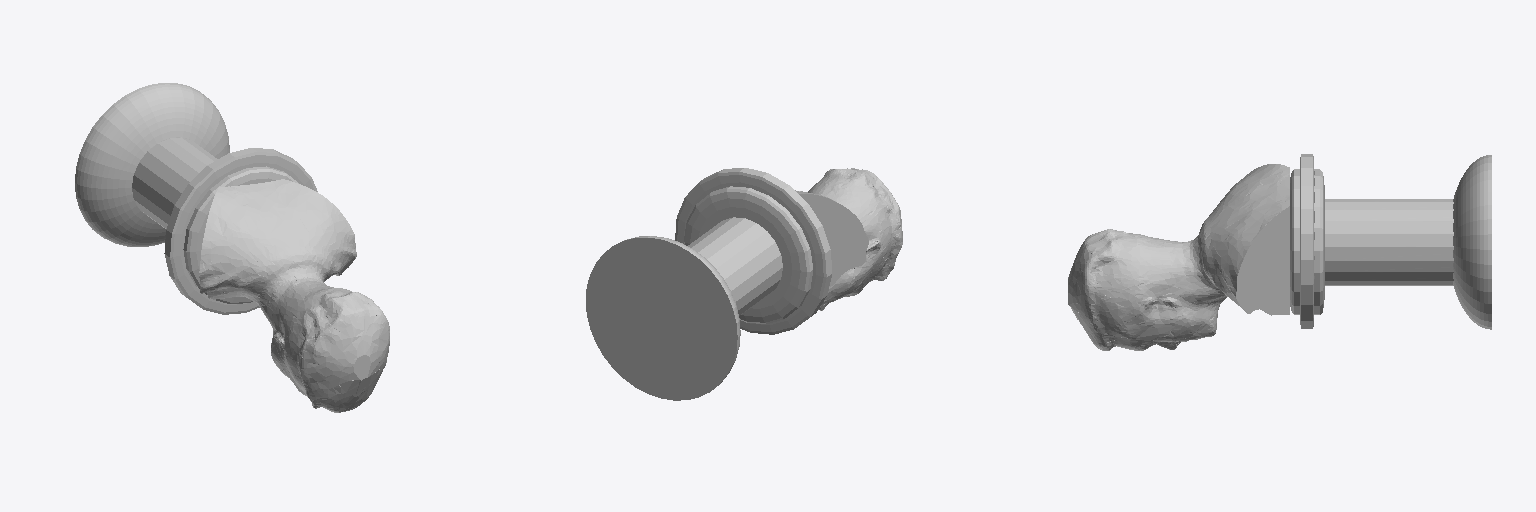
File: carlosbustcentered.obj
3 renders of one model, left to right at view 1: azimuth 30°, elevation 25°; view 2: azimuth 150°, elevation 25°; view 3: azimuth 270°, elevation 25°, orthographic.
Visible parts, largest first — view 1: obj_0; view 2: obj_0; view 3: obj_0.
Part boxes in pixels (x1,y1,x2,y2): obj_0: (75, 83, 389, 412); obj_0: (586, 168, 902, 400); obj_0: (1068, 154, 1491, 350).
Size of the model in its own units: 16.23 by 18.44 by 37.7.